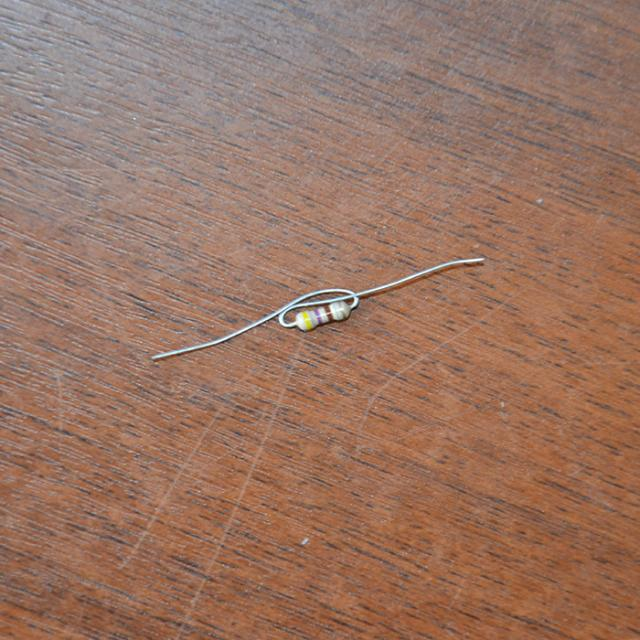brown: (325, 304, 333, 322)
gold: (336, 301, 346, 319)
resistor: (294, 297, 351, 334)
violet: (314, 308, 321, 325)
yellow: (303, 311, 311, 328)
